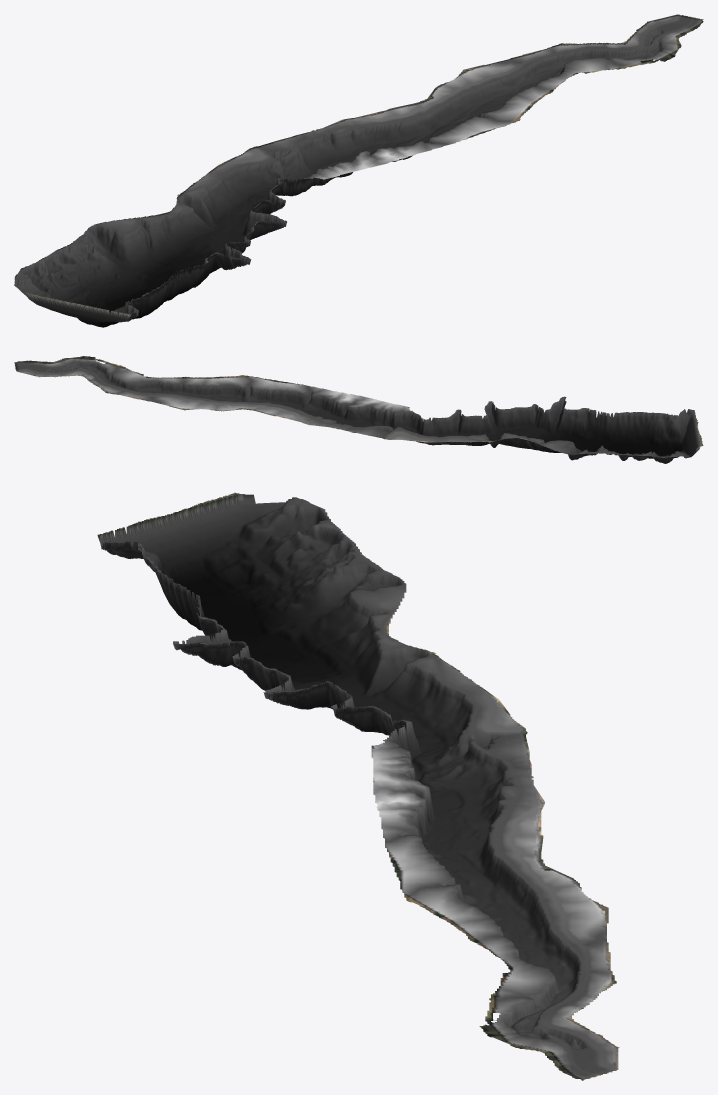
3 renders of one model, top to bottom at view 1: azimuth 30°, elevation 25°; view 2: azimuth 150°, elevation 25°; view 3: azimuth 270°, elevation 25°, orthographic. The views are drawn at different scales.
Visible parts, largest first — view 1: ahangaran_CMM_UTM42+EGM08; view 2: ahangaran_CMM_UTM42+EGM08; view 3: ahangaran_CMM_UTM42+EGM08.
Boxes of the visible parts, x1,y1,x2,y2 form: ahangaran_CMM_UTM42+EGM08: (14, 14, 703, 327); ahangaran_CMM_UTM42+EGM08: (14, 356, 703, 463); ahangaran_CMM_UTM42+EGM08: (97, 492, 619, 1080).
Bounding box in the file's own units: 10 × 0.3994 × 3.75.
Materials: 1 (1 with a texture image).
